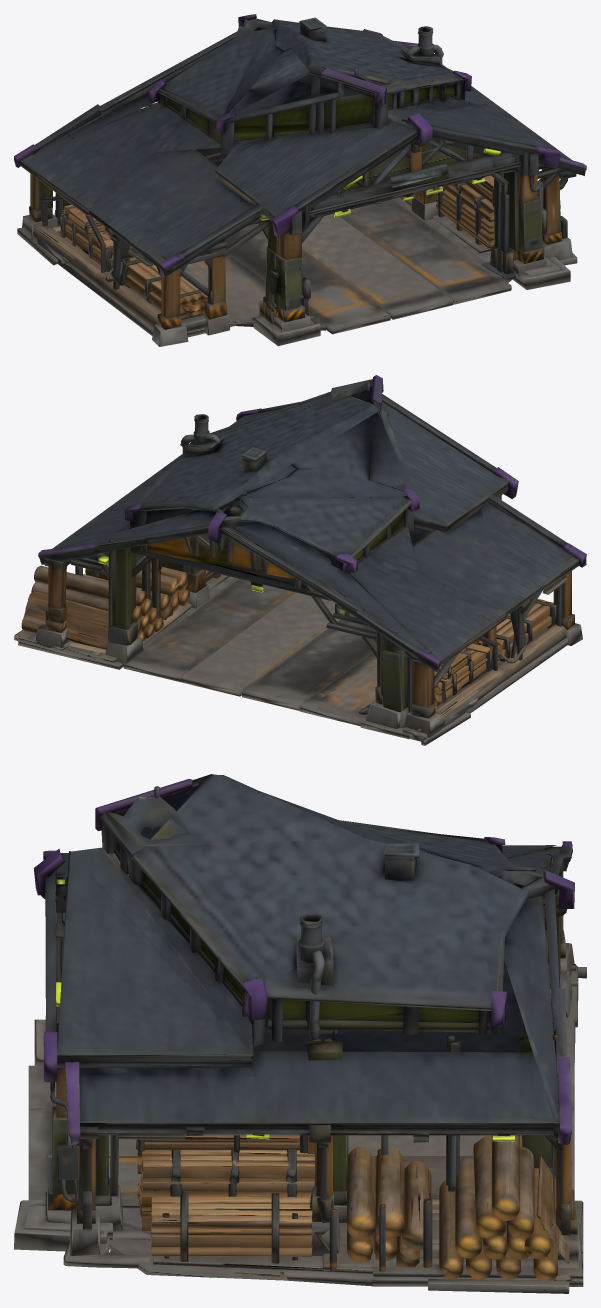
The model's file is timberline-l01-meshy-source.glb.
3 renders of one model, top to bottom at view 1: azimuth 30°, elevation 25°; view 2: azimuth 150°, elevation 25°; view 3: azimuth 270°, elevation 25°, orthographic. The views are drawn at different scales.
Visible parts, largest first — view 1: geometry_0; view 2: geometry_0; view 3: geometry_0.
Part boxes in pixels (x1,y1,x2,y2): geometry_0: (14, 14, 586, 346); geometry_0: (14, 375, 586, 745); geometry_0: (14, 774, 586, 1293).
Bounding box in the file's own units: 0.9502 × 0.458 × 0.7061.
Materials: 1 (1 with a texture image).
